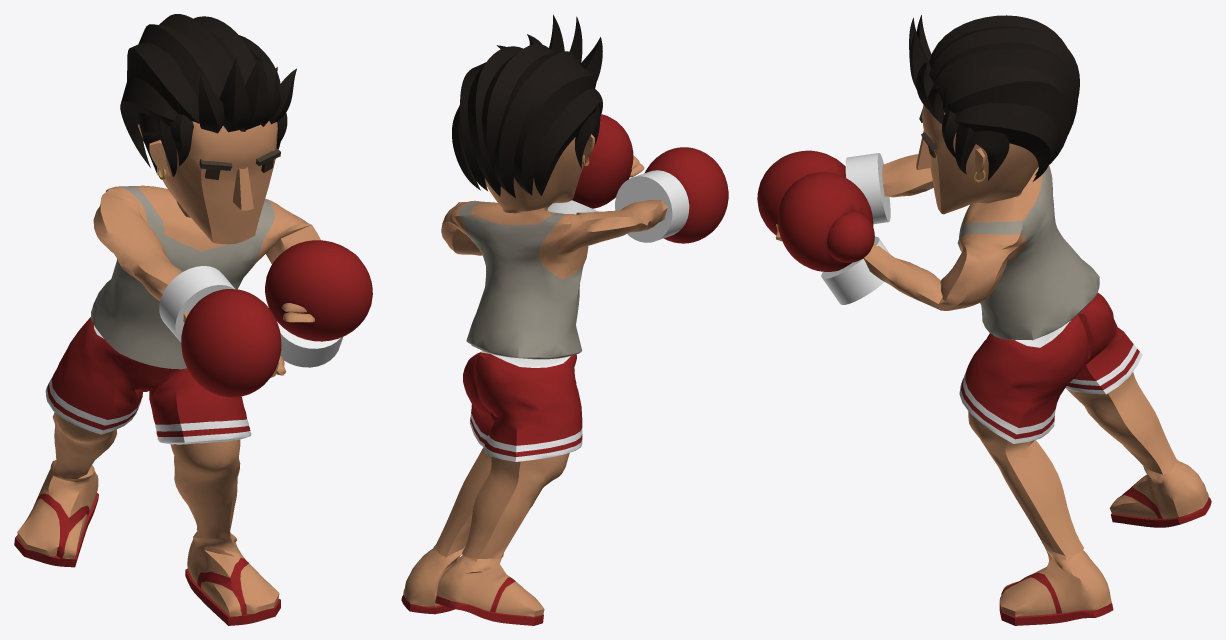
The model's file is av-boxeador-aposentado.glb.
The picture shows the model from 3 angles, left to right: view 1: azimuth 30°, elevation 25°; view 2: azimuth 150°, elevation 25°; view 3: azimuth 270°, elevation 25°; orthographic projection. The views are drawn at different scales.
Parts seen in each view (by area): view 1: Ad_luva_boxe_0_0; view 2: Ad_luva_boxe_0_0; view 3: Ad_luva_boxe_0_0.
Part boxes in pixels (box(x1,y1,x2,y2)): Ad_luva_boxe_0_0: box(14, 14, 372, 625); Ad_luva_boxe_0_0: box(401, 14, 728, 625); Ad_luva_boxe_0_0: box(757, 15, 1211, 625).
Bounding box in the file's own units: 0.5376 × 1.42 × 1.04.
